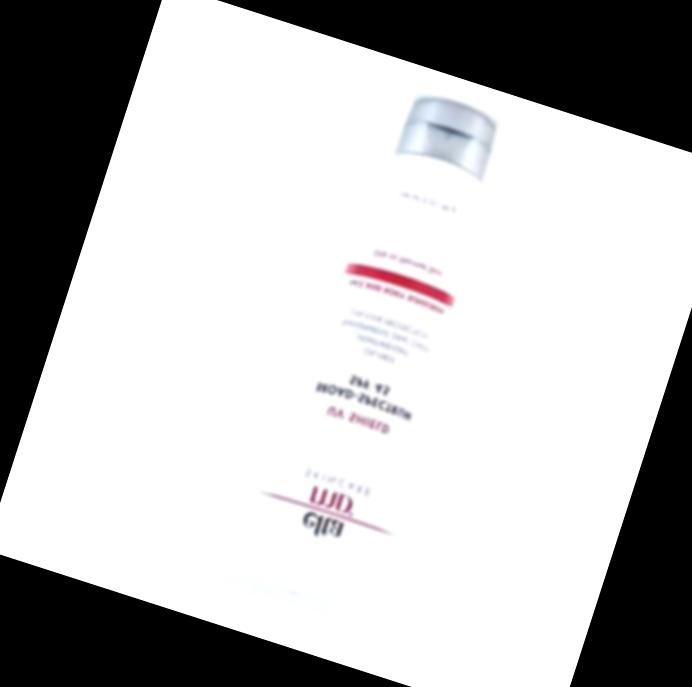cosmetic: (213, 75, 542, 640)
